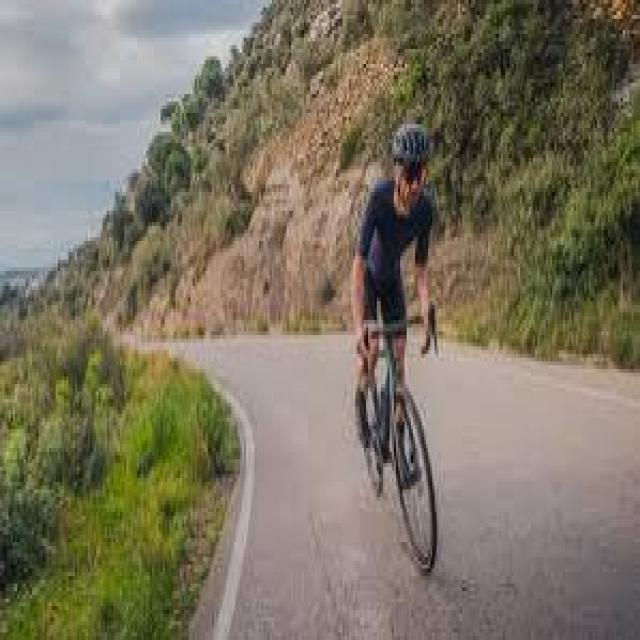bicycle: (354, 295, 440, 578)
